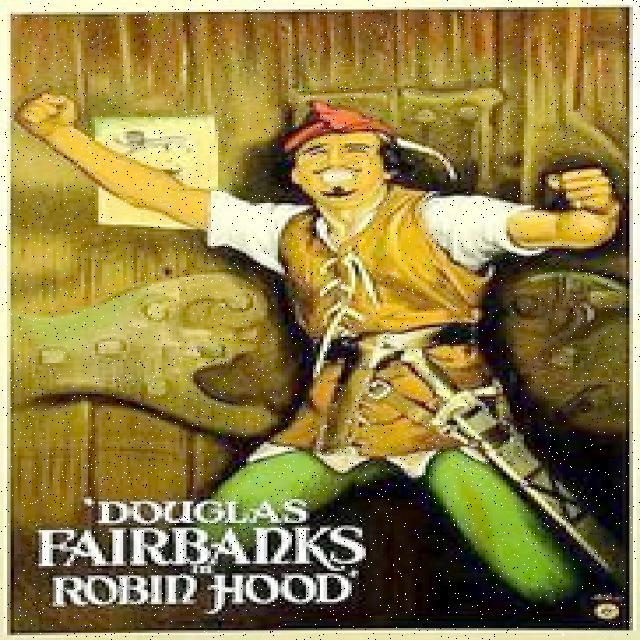movie-judul: (21, 491, 371, 618)
picture: (17, 73, 640, 611)
